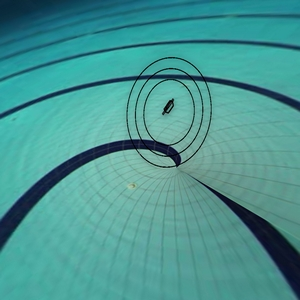circle: (114, 51, 235, 178)
submarine: (158, 94, 180, 122)
